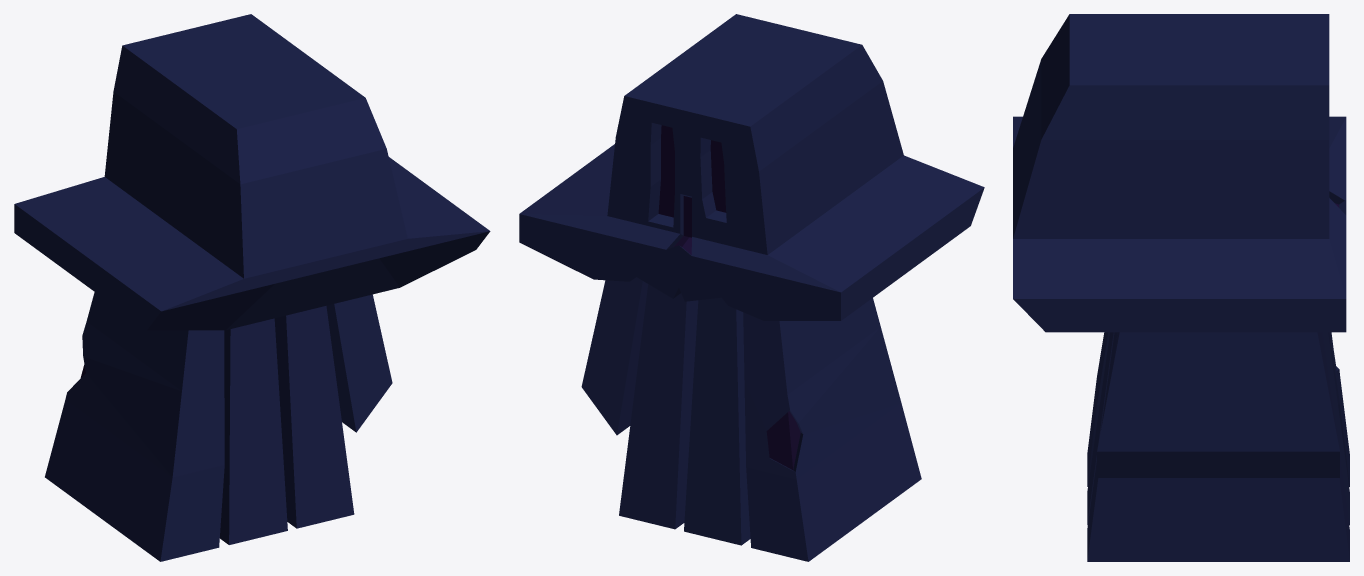
The model's file is rock_skull3.fbx.
3 renders of one model, left to right at view 1: azimuth 30°, elevation 25°; view 2: azimuth 150°, elevation 25°; view 3: azimuth 270°, elevation 25°, orthographic. The views are drawn at different scales.
Visible parts, largest first — view 1: rock_skull3; view 2: rock_skull3; view 3: rock_skull3.
Part boxes in pixels (x1,y1,x2,y2): rock_skull3: (14, 14, 490, 561); rock_skull3: (519, 14, 984, 561); rock_skull3: (1013, 14, 1349, 561).
Bounding box in the file's own units: 1.94 × 1.51 × 2.37.
